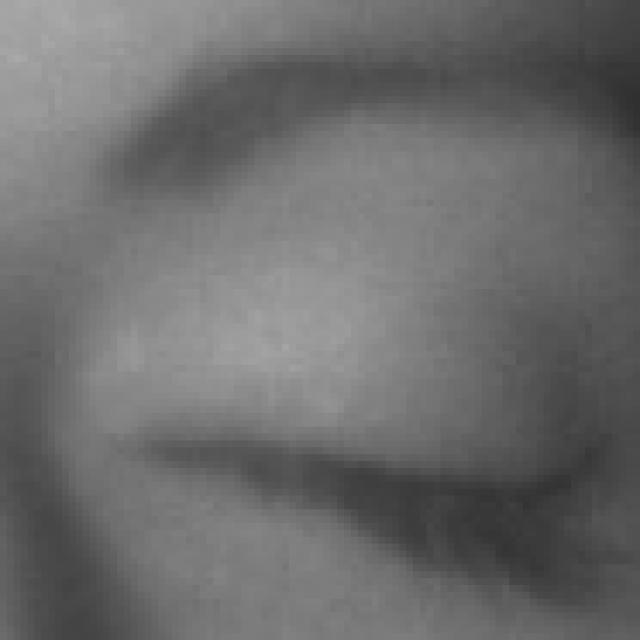Eyeclosed: (153, 268, 605, 640)
